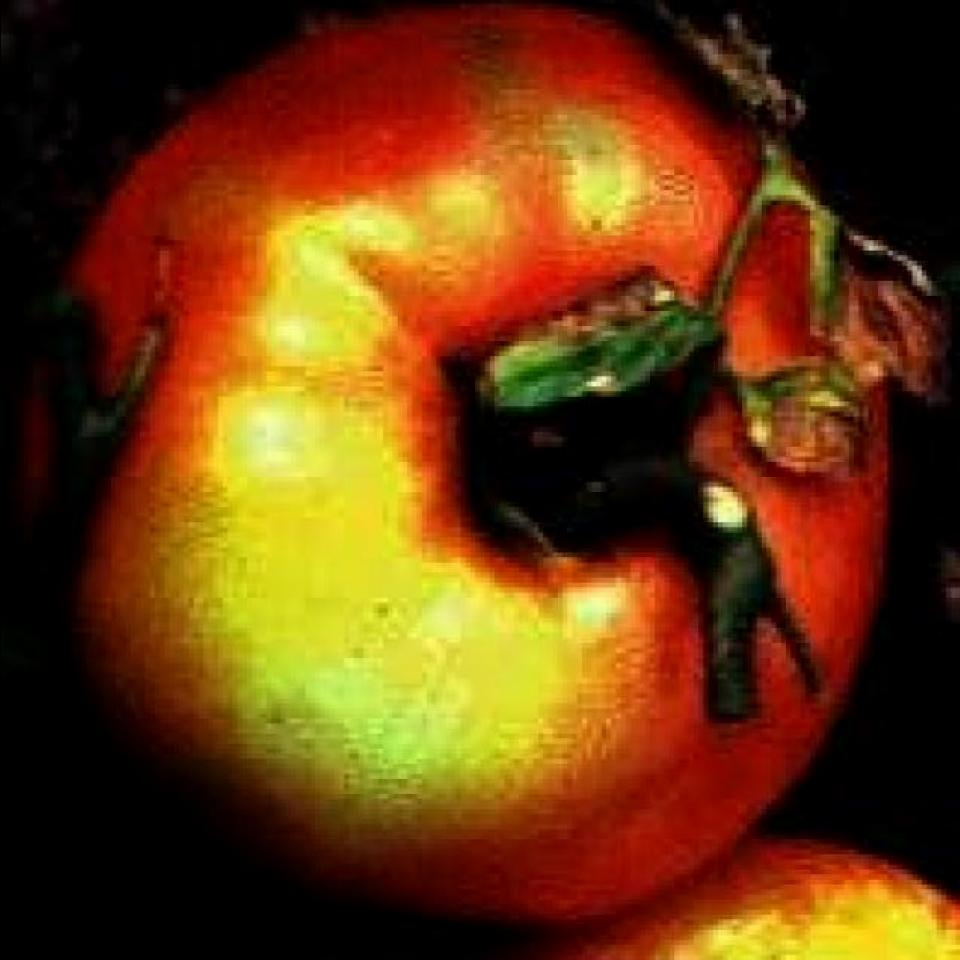Sunscald: (139, 215, 673, 885), (621, 900, 960, 960)
